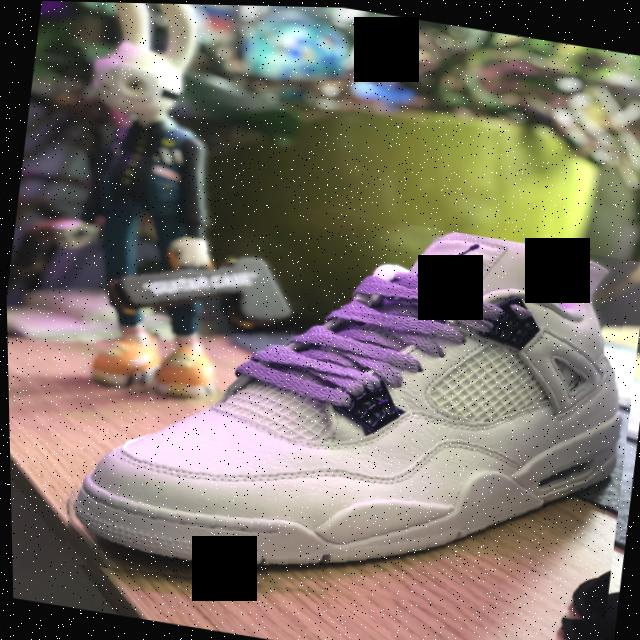shoe: (46, 173, 640, 640)
